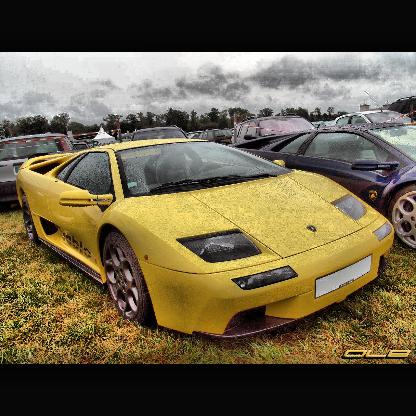Lamborghini Diablo Coupe 2001: (12, 137, 396, 348)
